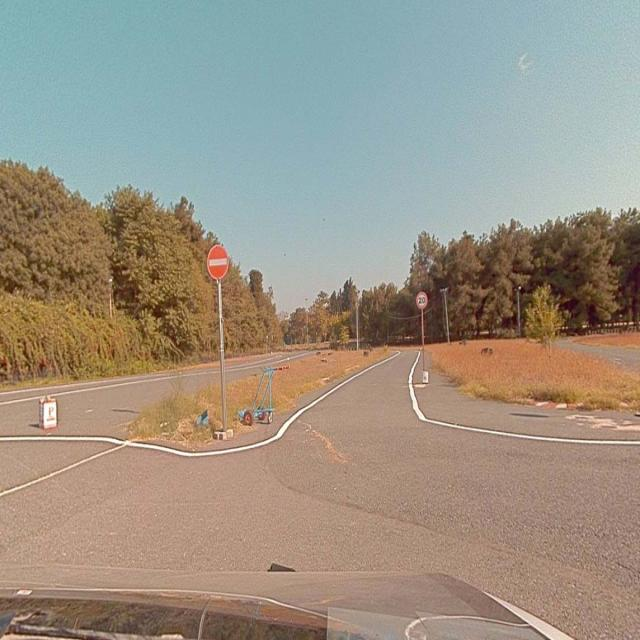20: (416, 291, 428, 309)
girisyok: (207, 246, 228, 278)
